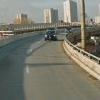Bridge: (58, 16, 97, 83)
